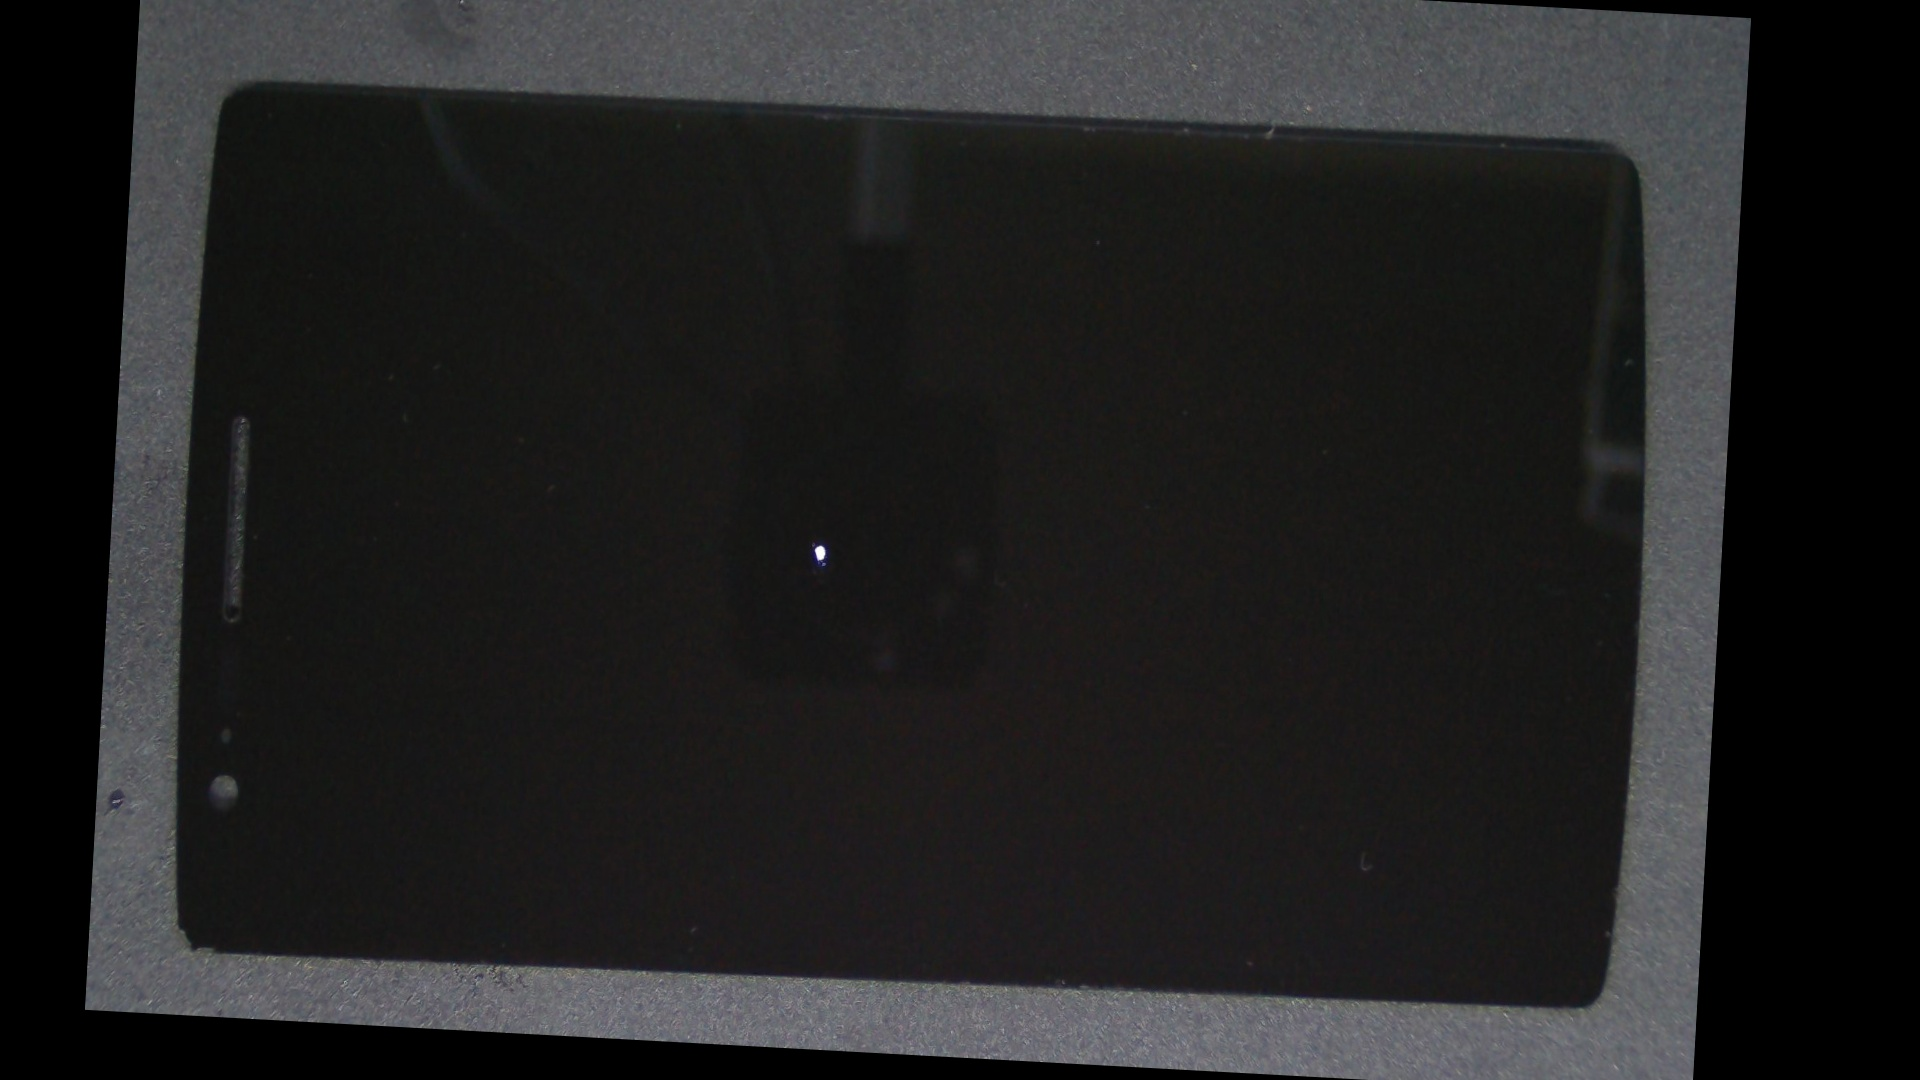oil: (452, 235, 1189, 848)
